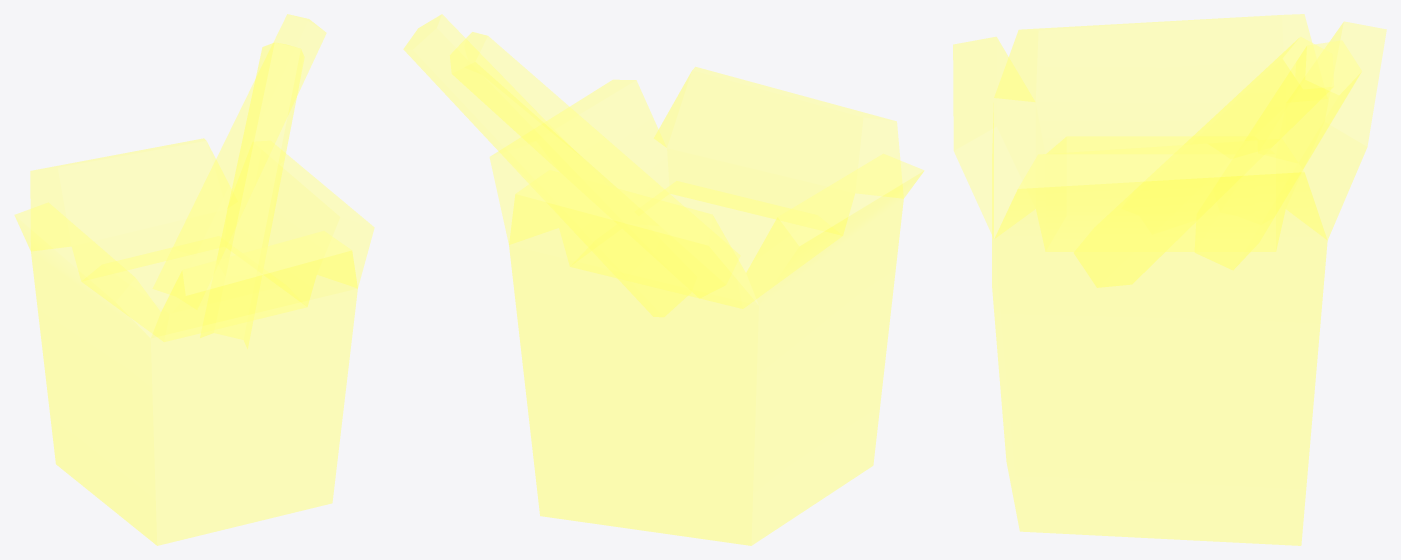
Rendered from SM_Prop_LargeSign_Noodles_01_Outline.glb.
The picture shows the model from 3 angles, left to right: view 1: azimuth 30°, elevation 25°; view 2: azimuth 150°, elevation 25°; view 3: azimuth 270°, elevation 25°; orthographic projection. The views are drawn at different scales.
Visible parts, largest first — view 1: SM_Prop_LargeSign_Noodles_01_Outline; view 2: SM_Prop_LargeSign_Noodles_01_Outline; view 3: SM_Prop_LargeSign_Noodles_01_Outline.
Boxes of the visible parts, x1=… form: SM_Prop_LargeSign_Noodles_01_Outline: x1=14, y1=14, x2=374, y2=545; SM_Prop_LargeSign_Noodles_01_Outline: x1=403, y1=14, x2=924, y2=545; SM_Prop_LargeSign_Noodles_01_Outline: x1=953, y1=14, x2=1386, y2=545.
Size of the model in its own units: 3.17 by 3.81 by 2.7.
